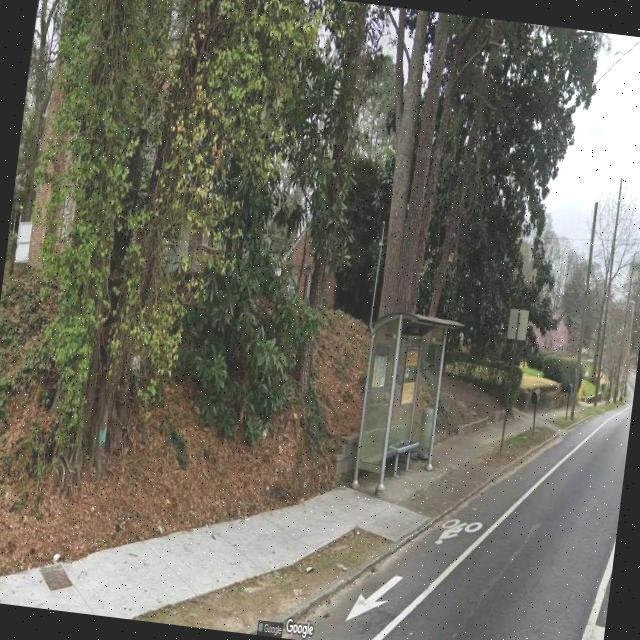seating: (384, 436, 419, 482)
shelter: (351, 306, 466, 502)
trash_can: (416, 406, 436, 459)
